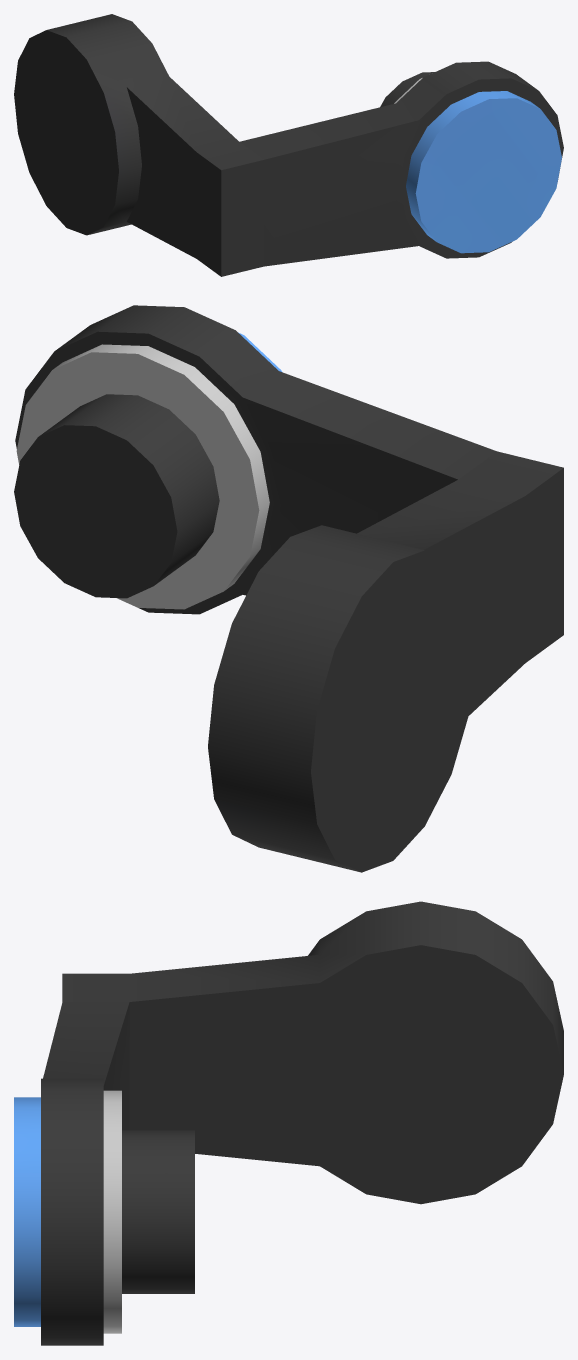
File: camHoldRoll.dae
3 views of the same model, one above another, from view 1: azimuth 30°, elevation 25°; view 2: azimuth 150°, elevation 25°; view 3: azimuth 270°, elevation 25° (orthographic). The views are drawn at different scales.
Visible parts, largest first — view 1: 平面.013; view 2: 平面.013; view 3: 平面.013.
Boxes of the visible parts, x1,y1,x2,y2 form: 平面.013: (14,14,563,276); 平面.013: (14,305,563,872); 平面.013: (14,901,563,1345).
Bounding box in the file's own units: 0.0622 × 0.0609 × 0.0317.
Materials: 1 (1 with a texture image).
